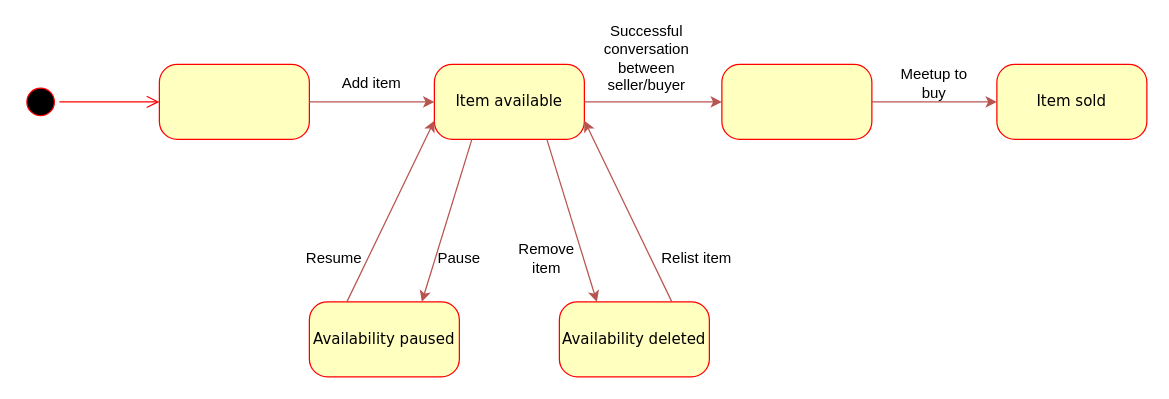
This 1169x399 diagram has some shape labels left out. The shapes that lost their labels are listed below. From the top down, each one's centre as x and y in pixels, then its label:
At point (233, 101): "Item post draft".
At point (796, 101): "Item reserved".
